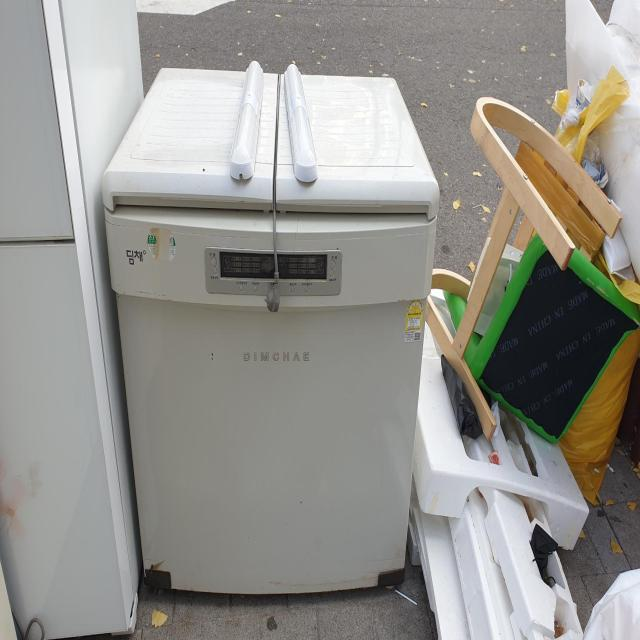refrigerator: (99, 56, 440, 609)
